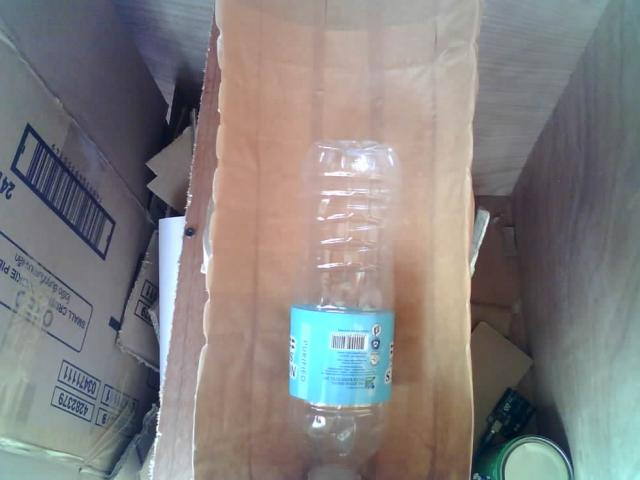small_bottle: (273, 128, 412, 480)
